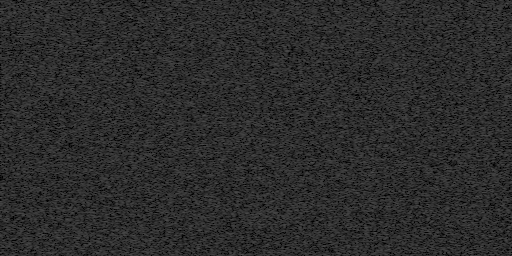wv_am: (49, 0, 55, 255), (262, 0, 267, 186), (262, 187, 267, 256)
wv_cw: (282, 0, 286, 256)
wv_lsb: (290, 108, 294, 147), (290, 234, 294, 255), (289, 175, 294, 186), (290, 189, 294, 202), (290, 211, 294, 221), (290, 4, 294, 14), (289, 222, 294, 229), (290, 81, 294, 89), (290, 71, 294, 79), (290, 16, 294, 24), (290, 203, 294, 210), (290, 63, 294, 70), (290, 169, 294, 174), (290, 95, 294, 100), (290, 25, 294, 29), (290, 163, 293, 168), (290, 42, 293, 47), (290, 30, 293, 35), (290, 104, 294, 107), (290, 90, 293, 94)
wv_usb: (221, 110, 226, 256), (221, 36, 226, 109), (110, 82, 115, 142), (110, 163, 115, 213), (110, 26, 115, 75), (110, 237, 115, 256), (221, 8, 226, 24), (111, 143, 115, 162), (111, 1, 115, 16), (111, 222, 114, 233), (111, 17, 115, 25), (221, 1, 226, 7), (111, 214, 114, 220), (222, 28, 225, 33), (111, 76, 114, 81)
